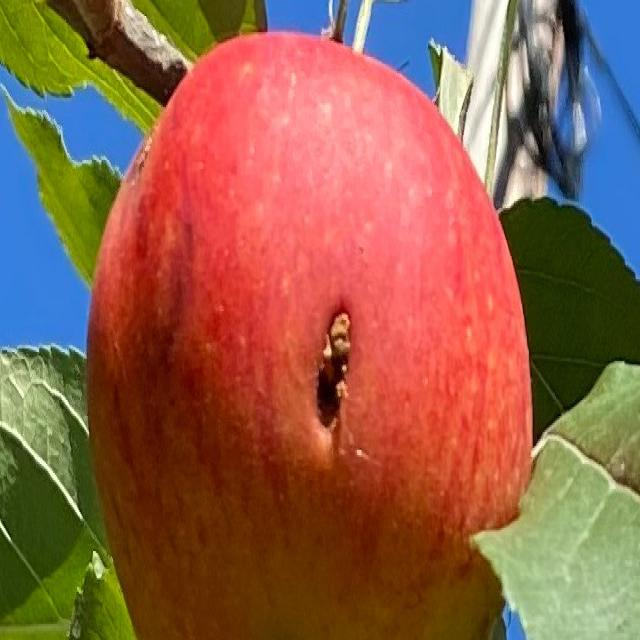Apples: (86, 29, 533, 638)
